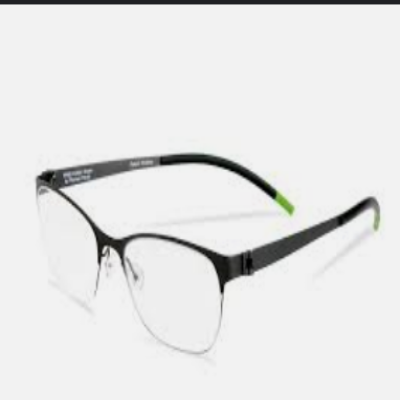glasses: (32, 152, 387, 357)
